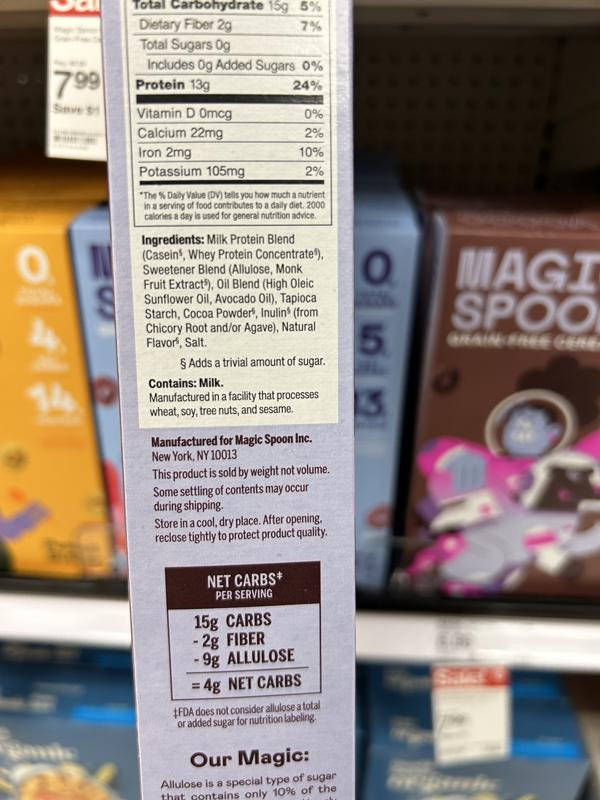ingredients: (139, 231, 329, 353)
